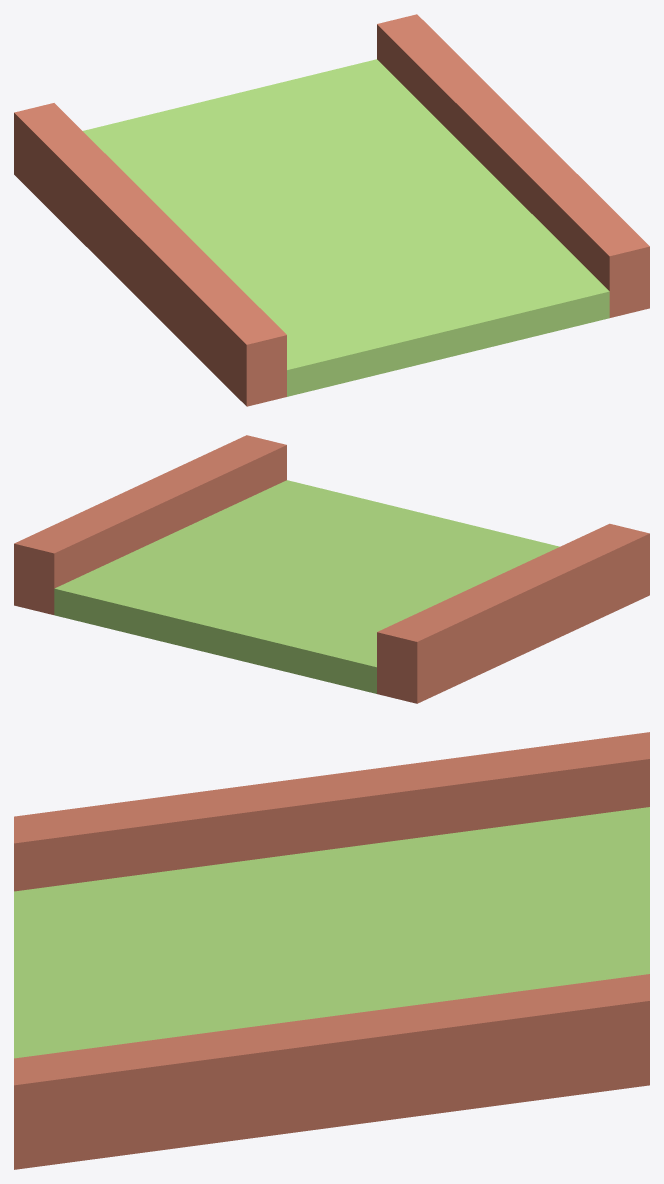
The model's file is Ramp_1_01.glb.
3 views of the same model, one above another, from view 1: azimuth 30°, elevation 25°; view 2: azimuth 150°, elevation 25°; view 3: azimuth 270°, elevation 25° (orthographic). The views are drawn at different scales.
Parts seen in each view (by area): view 1: Mesh1 Ramp_1 Model; view 2: Mesh1 Ramp_1 Model; view 3: Mesh1 Ramp_1 Model.
Boxes of the visible parts, x1,y1,x2,y2 form: Mesh1 Ramp_1 Model: (14, 14, 649, 406); Mesh1 Ramp_1 Model: (14, 435, 649, 703); Mesh1 Ramp_1 Model: (14, 732, 649, 1169).
Bounding box in the file's own units: 3 × 0.88 × 3.
